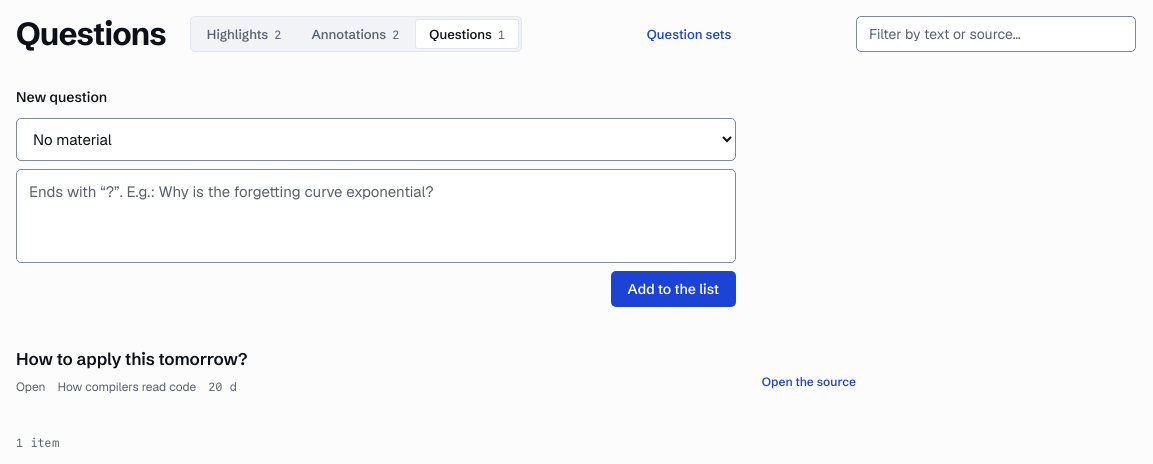
Test: NotesView › opens the tab named in the query and keeps switching tabs in the query
Check: the heading "Questions" is shown, box [16,16,166,52]
Check: the text box with id "new-question" is shown, box [16,169,736,263]
Click the tab "Annotations 2". click: (355, 34)
box: [297,19,413,49]
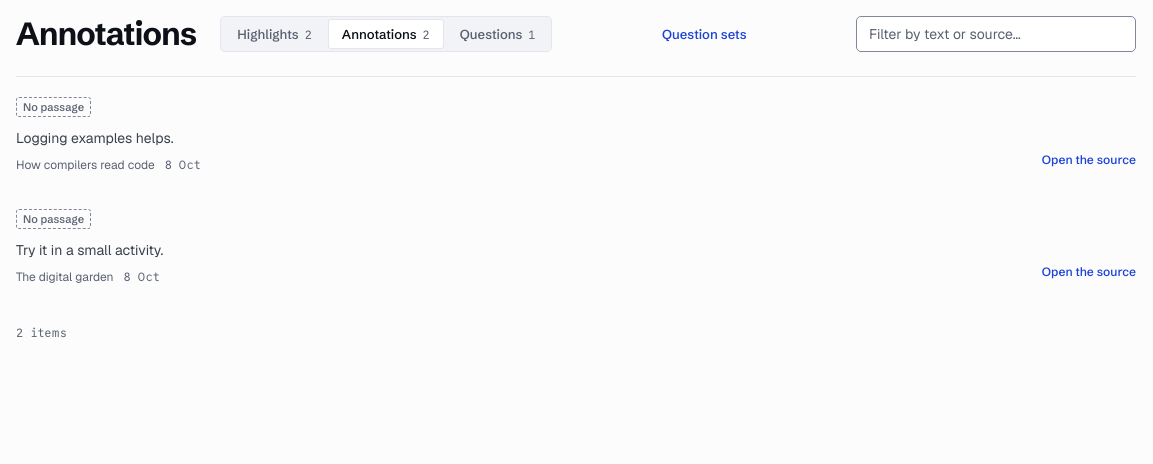
Check: the heading "Annotations" is shown, box [16,16,196,52]
Check: the number of elements with class "notes-annotation" is 2, box [16,77,1136,189]; [16,189,1136,301]
